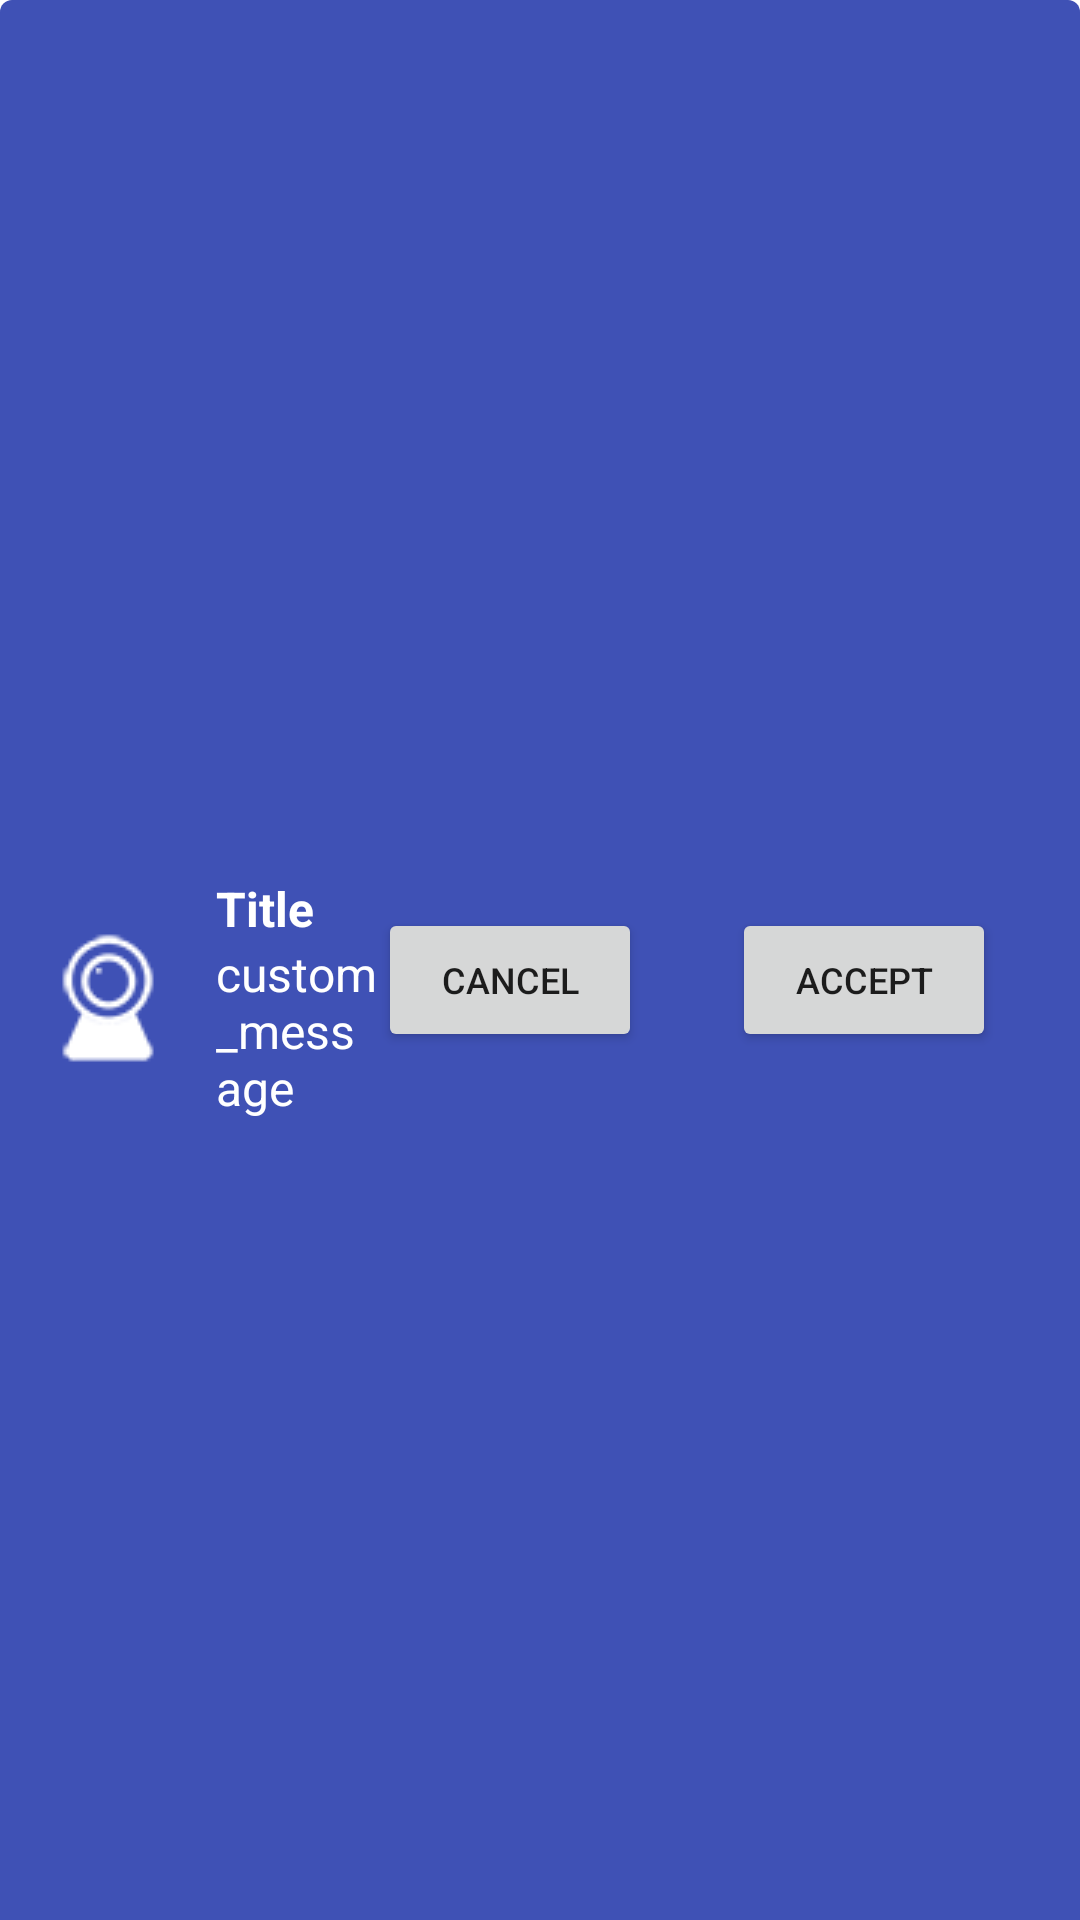

Named icons in this screenshot (1080 × 1920) and their centers, (x=x, y=y):
avcall: (x=108, y=998)
